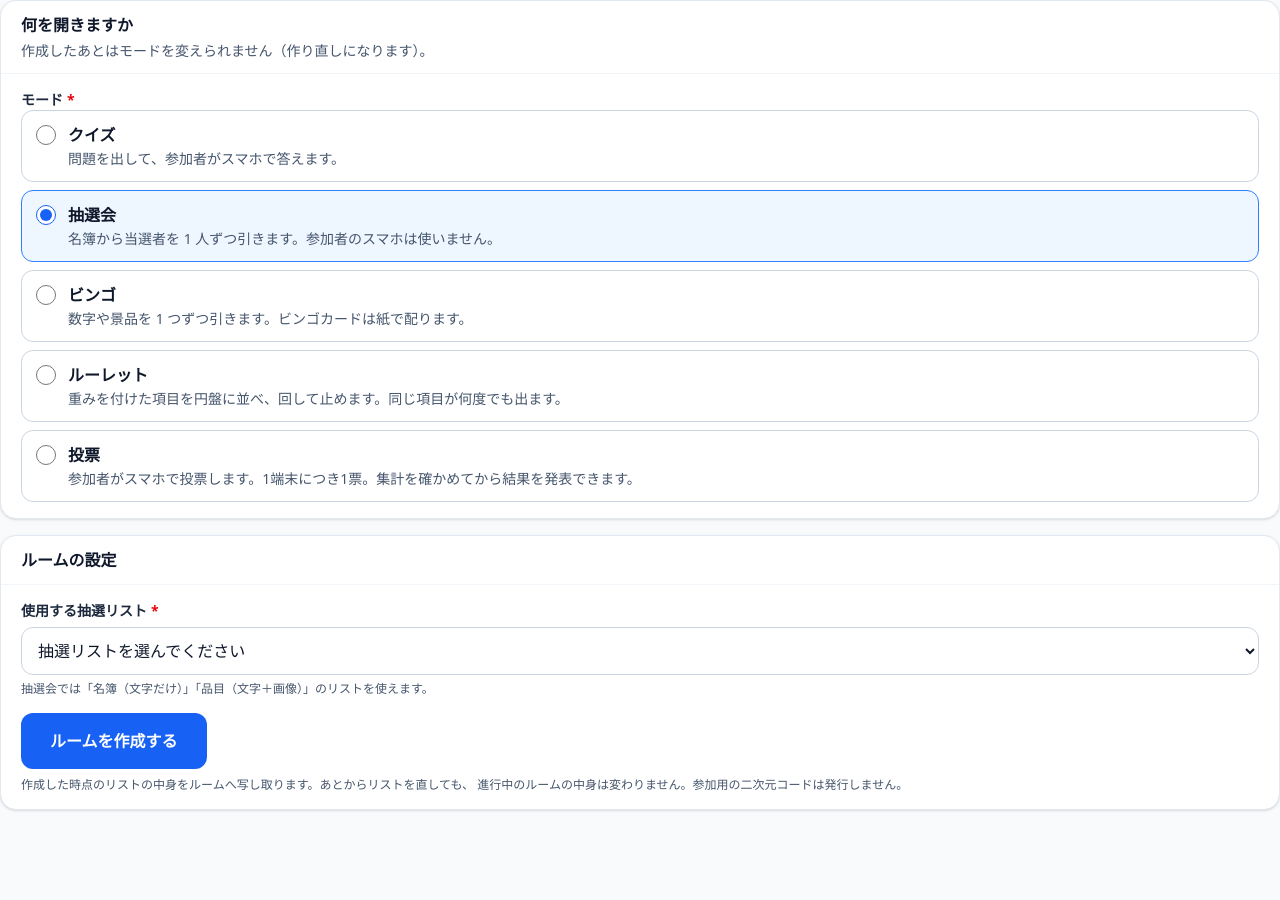
ルーム作成のモード選び › 抽選会のルーム作成では抽選リストだけを送り、参加URLを出さない
Select "社員名簿｜名簿（文字だけ）｜120件" in the dropdown labelled "使用する抽選リスト*" at (640, 651), box [21,627,1259,675]
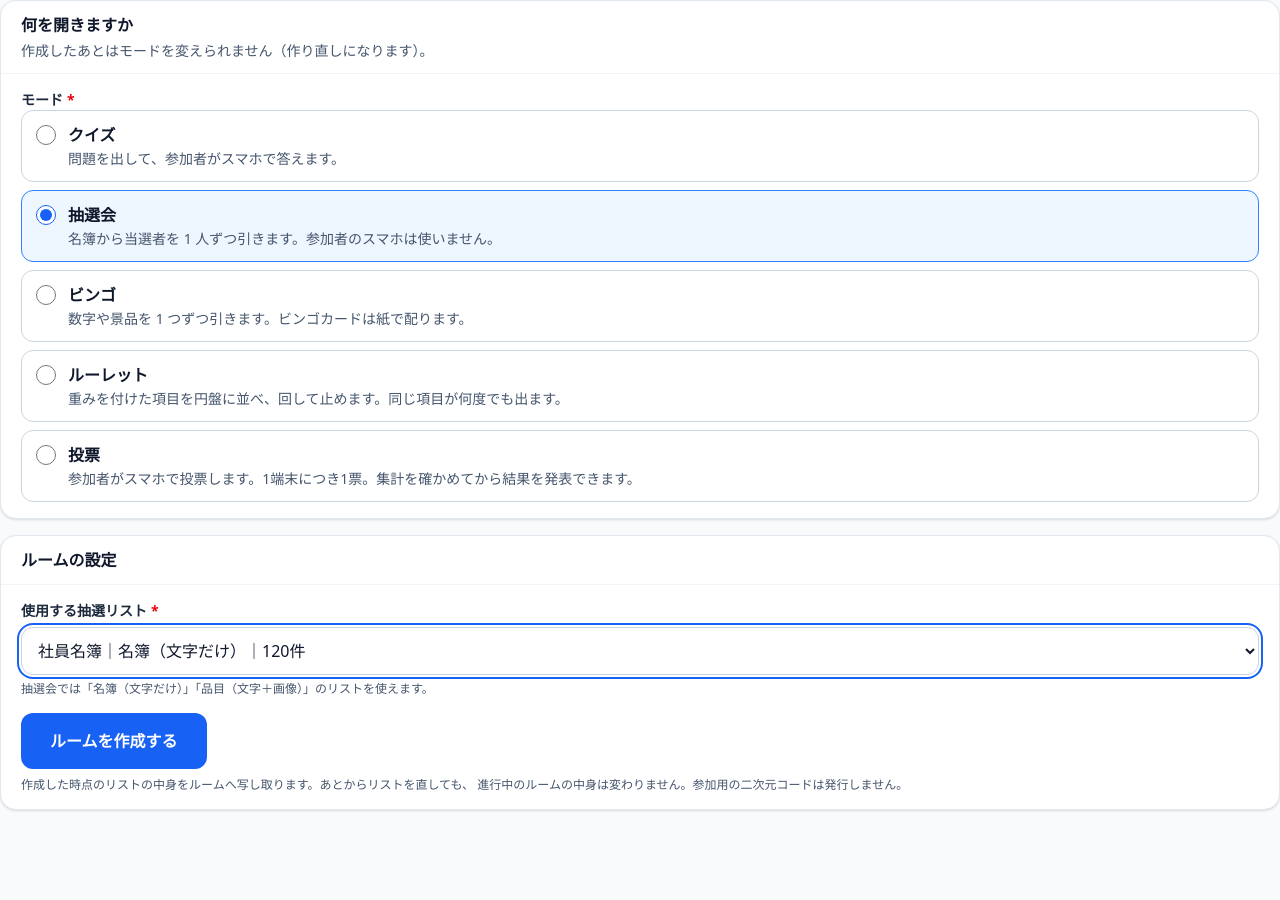
Click the button "ルームを作成する".
click(114, 741)  # box [21,713,206,769]
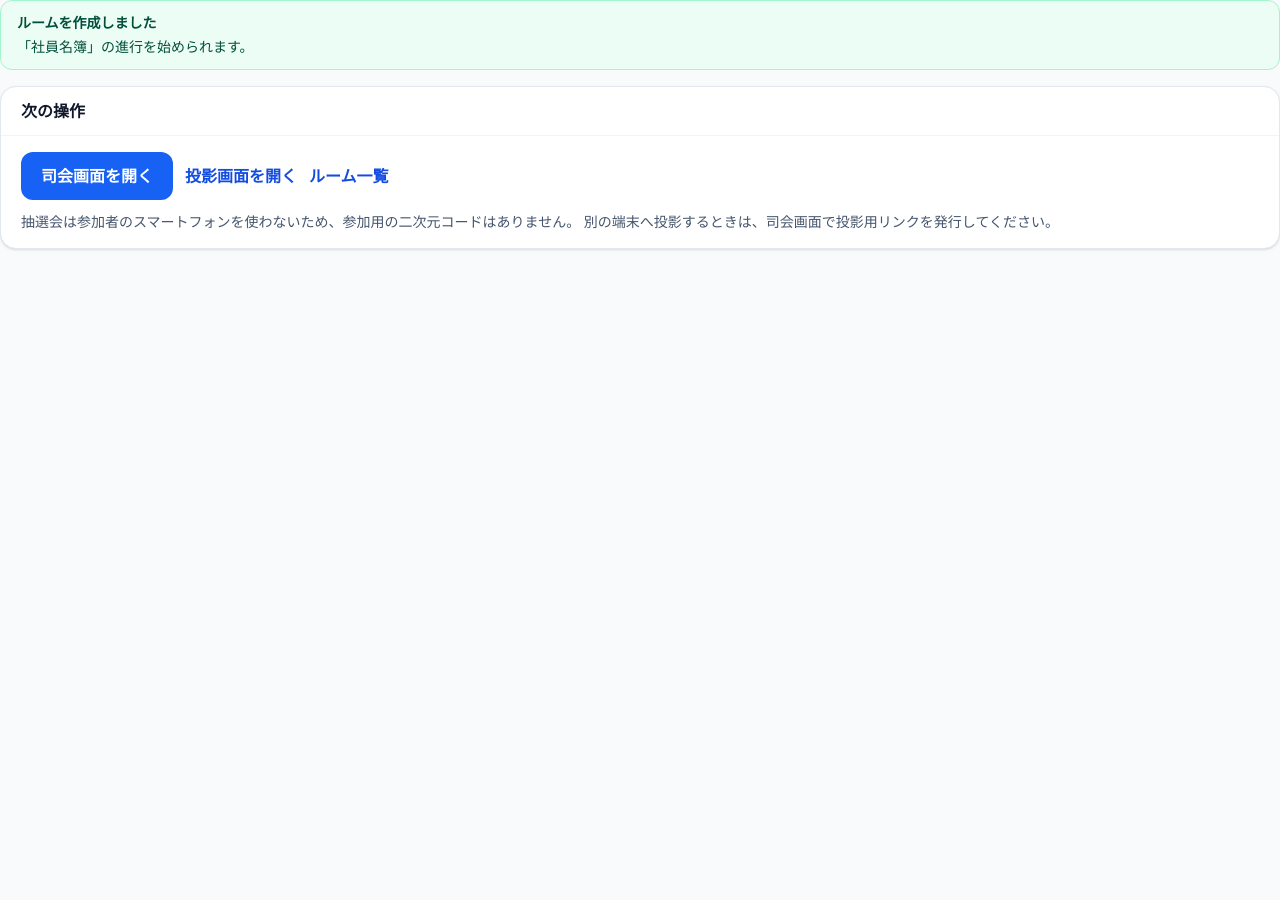
Expected: the link "投影画面を開く" is shown, [185,164,297,188]
Expected: the link "司会画面を開く" is shown, [21,152,173,200]
